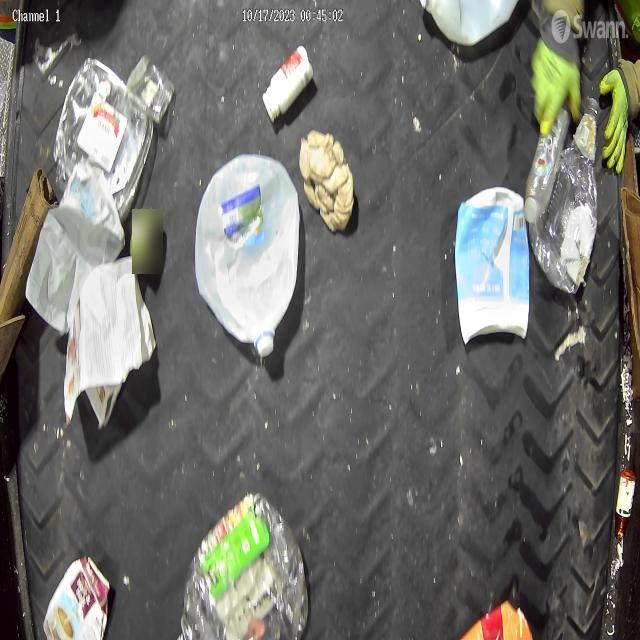milk_jug: (194, 150, 300, 362)
plastic_bottle: (528, 96, 600, 296), (524, 108, 570, 222)
